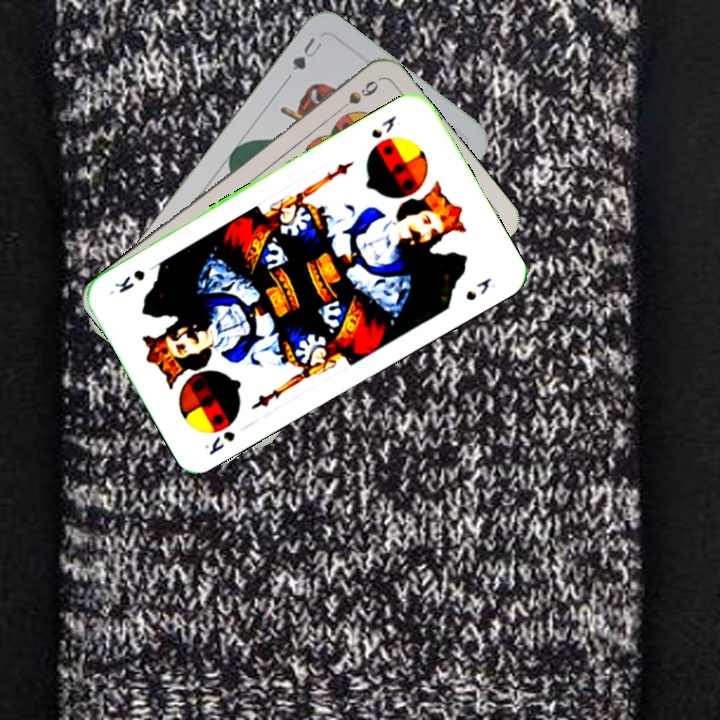GU: (288, 33, 327, 73)
S9: (331, 76, 382, 117)
SK: (200, 426, 238, 458), (367, 111, 399, 141)
